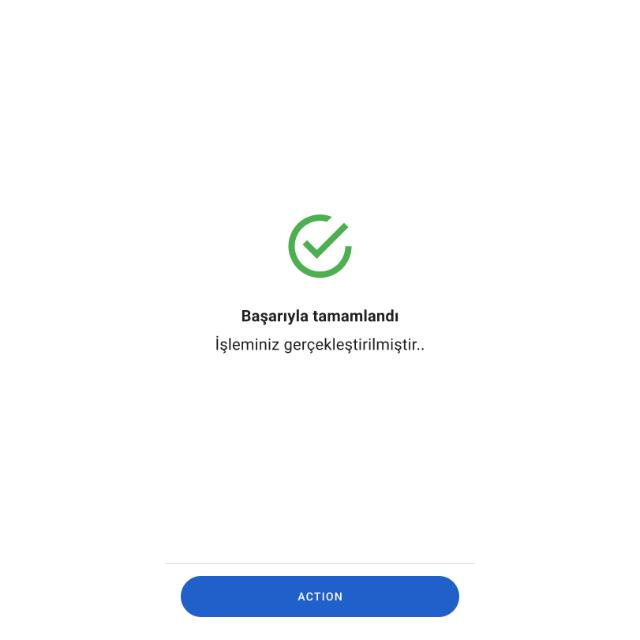QLabel: (212, 334, 428, 356), (237, 306, 403, 326), (294, 591, 346, 603)
VBtn: (182, 576, 460, 618)
VFooter: (165, 562, 475, 640)
VImg: (282, 214, 358, 278)
